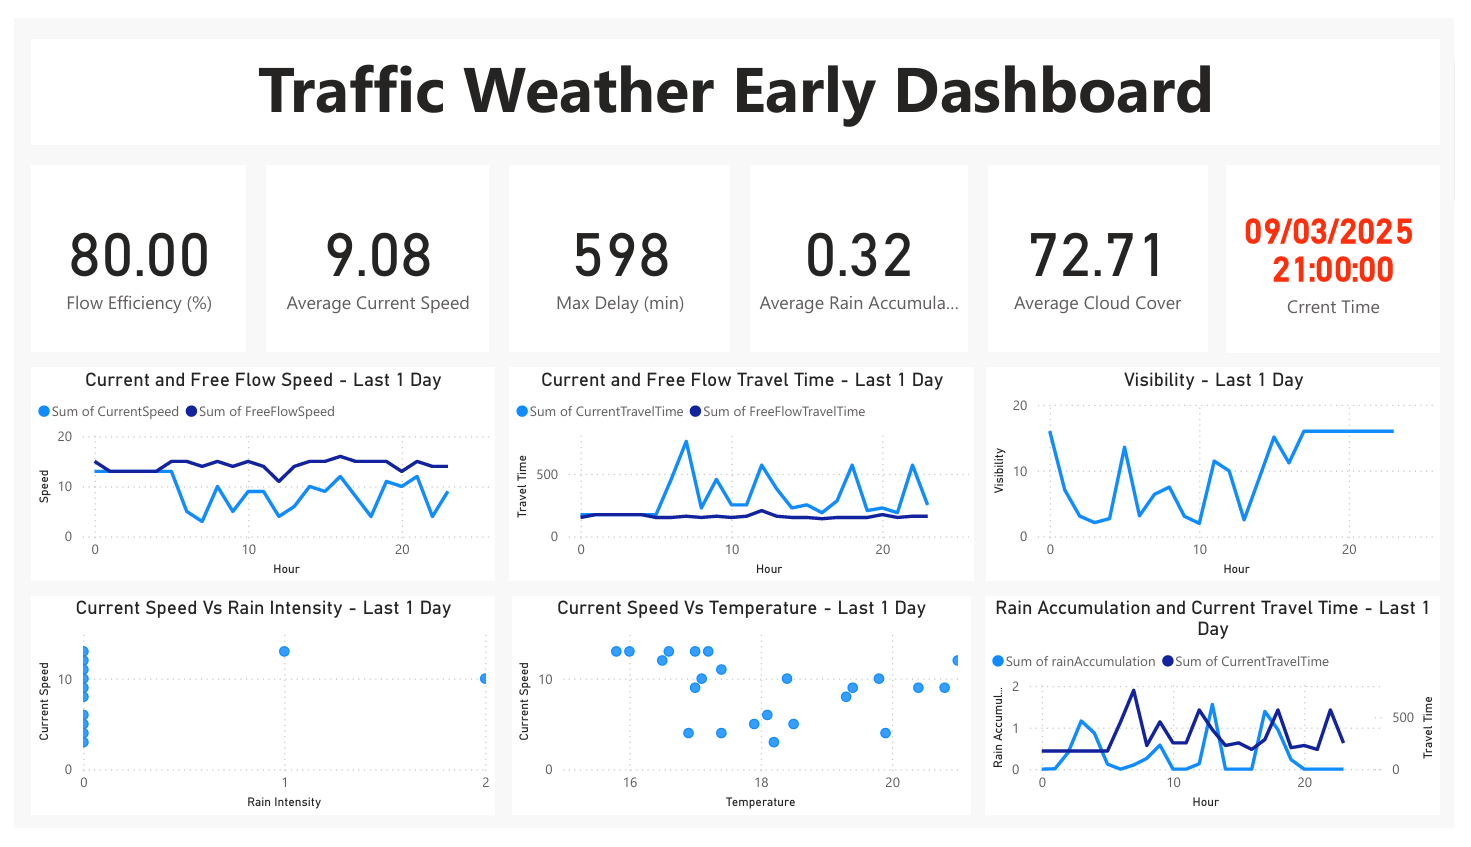

The page's visual inventory and layout, read from the dashboard file:
{"tool":"powerbi","page":{"name":"Page 1","canvas":[1280,720],"ordinal":0},"visuals":[{"type":"lineChart","title":"Current and Free Flow Speed - Last 1 Day","fields":{"Y":["Sum(traffic.flowSegmentData.currentSpeed)","Sum(traffic.flowSegmentData.freeFlowSpeed)"],"Category":["Dim_DateTime.Hour"]},"box":[14.6,310.3,412.7,190.1],"z":0},{"type":"lineChart","title":"Current and Free Flow Travel Time - Last 1 Day","fields":{"Category":["Dim_DateTime.Hour"],"Y":["Sum(traffic.flowSegmentData.currentTravelTime)","Sum(traffic.flowSegmentData.freeFlowTravelTime)"]},"box":[440.3,310.3,412.7,190.1],"z":1000},{"type":"card","fields":{"Values":["traffic.Flow Efficiency (%)"]},"box":[14.6,130,191.7,165.7],"z":2000},{"type":"scatterChart","title":"Current Speed Vs Rain Intensity - Last 1 Day","fields":{"Y":["Sum(traffic.flowSegmentData.currentSpeed)"],"X":["weather.rainIntensity"]},"box":[14.6,513.4,412.7,193.3],"z":3000},{"type":"scatterChart","title":"Current Speed Vs Temperature - Last 1 Day","fields":{"Y":["Sum(traffic.flowSegmentData.currentSpeed)"],"X":["weather.temperature"]},"box":[441.9,513.4,407.8,193.3],"z":4000},{"type":"lineChart","title":"Rain Accumulation and Current Travel Time - Last 1 Day","fields":{"Category":["Dim_DateTime.Hour"],"Y2":["Sum(traffic.flowSegmentData.currentTravelTime)"],"Y":["Sum(weather.rainAccumulation)"]},"box":[862.8,513.4,404.6,193.3],"z":5000},{"type":"lineChart","title":"Visibility - Last 1 Day","fields":{"Y":["Sum(weather.visibility)"],"Category":["Dim_DateTime.Hour"]},"box":[864.4,310.3,402.9,190.1],"z":6000},{"type":"card","fields":{"Values":["traffic.average_current_speed"]},"box":[223.9,130,198.2,165.7],"z":7000},{"type":"card","fields":{"Values":["traffic.Max Delay"]},"box":[439.7,130,196.6,165.7],"z":8000},{"type":"card","fields":{"Values":["weather.Average Rain Accumulation"]},"box":[653.8,130,193.3,165.7],"z":9000},{"type":"card","fields":{"Values":["weather.Average Cloud Cover"]},"box":[864.7,130,195,165.7],"z":10000},{"type":"card","fields":{"Values":["weather.Crrent Precipitation"]},"box":[1077.2,130,190.1,167.4],"z":11000},{"type":"textbox","box":[14.6,17.9,1252.7,94.2],"z":12000}]}

Visuals, with their boxes in screenshot pixels (x1, y1, x2, y2), scaled from the page's 1280x720 canvas onto the 1471x847 screenshot:
"Current and Free Flow Speed - Last 1 Day" lineChart: select_region(17, 365, 491, 589)
"Current and Free Flow Travel Time - Last 1 Day" lineChart: select_region(506, 365, 980, 589)
card - traffic.Flow Efficiency (%): select_region(17, 153, 237, 348)
"Current Speed Vs Rain Intensity - Last 1 Day" scatterChart: select_region(17, 604, 491, 831)
"Current Speed Vs Temperature - Last 1 Day" scatterChart: select_region(508, 604, 976, 831)
"Rain Accumulation and Current Travel Time - Last 1 Day" lineChart: select_region(992, 604, 1457, 831)
"Visibility - Last 1 Day" lineChart: select_region(993, 365, 1456, 589)
card - traffic.average_current_speed: select_region(257, 153, 485, 348)
card - traffic.Max Delay: select_region(505, 153, 731, 348)
card - weather.Average Rain Accumulation: select_region(751, 153, 974, 348)
card - weather.Average Cloud Cover: select_region(994, 153, 1218, 348)
card - weather.Crrent Precipitation: select_region(1238, 153, 1456, 350)
textbox: select_region(17, 21, 1456, 132)
